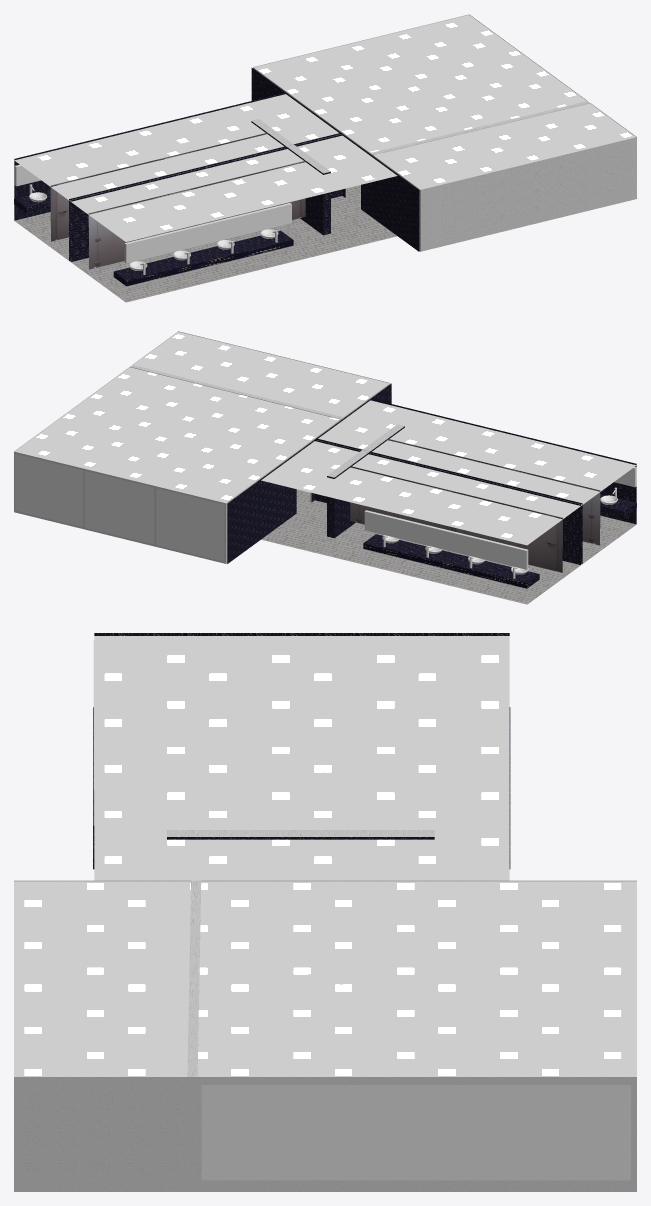
File: OfficeMap.fbx
The picture shows the model from 3 angles, top to bottom: view 1: azimuth 30°, elevation 25°; view 2: azimuth 150°, elevation 25°; view 3: azimuth 270°, elevation 25°; orthographic projection. The views are drawn at different scales.
Visible parts, largest first — view 1: OfficeFloor.001, BathroomFloor.001, Walls, BathroomFloor, Cube.001, SinkCounter.001, Sink.001, SinkCounter; view 2: OfficeFloor.001, Walls, BathroomFloor.001, BathroomFloor, Cube, SinkCounter, SinkCounter.001; view 3: OfficeFloor.001, BathroomFloor.001, Walls.
Part boxes in pixels (<box>): OfficeFloor.001: <box>253,15,635,189</box>; BathroomFloor.001: <box>14,94,397,241</box>; Walls: <box>14,14,636,269</box>; BathroomFloor: <box>14,196,397,302</box>; Cube.001: <box>124,203,291,263</box>; SinkCounter.001: <box>113,230,293,286</box>; Sink.001: <box>129,229,278,270</box>; SinkCounter: <box>14,190,50,213</box>; OfficeFloor.001: <box>15,332,389,503</box>; Walls: <box>14,331,636,572</box>; BathroomFloor.001: <box>261,400,636,545</box>; BathroomFloor: <box>261,500,636,604</box>; Cube: <box>364,510,528,569</box>; SinkCounter: <box>363,534,539,588</box>; SinkCounter.001: <box>600,494,636,517</box>; OfficeFloor.001: <box>14,881,636,1076</box>; BathroomFloor.001: <box>94,636,509,880</box>; Walls: <box>14,633,636,1191</box>.
Bounding box in the file's own units: 5318 × 643 × 3156.
Materials: 12 (4 with a texture image).
